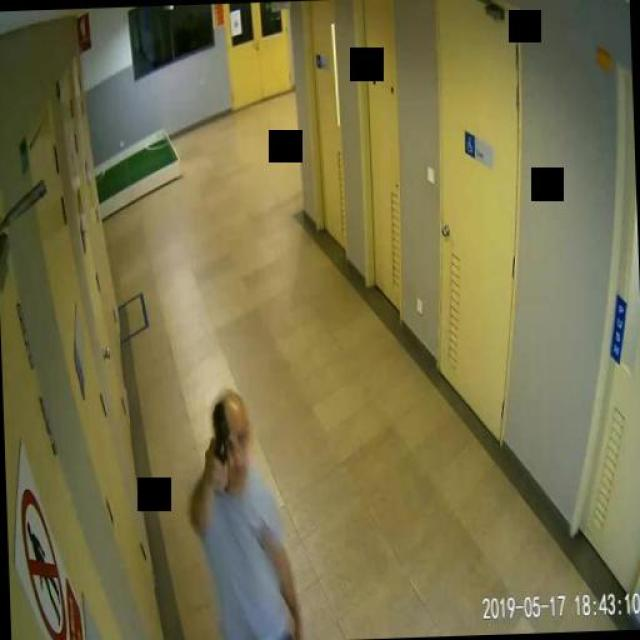gun: (208, 400, 230, 479)
